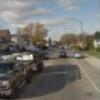cars: (0, 60, 31, 100)
